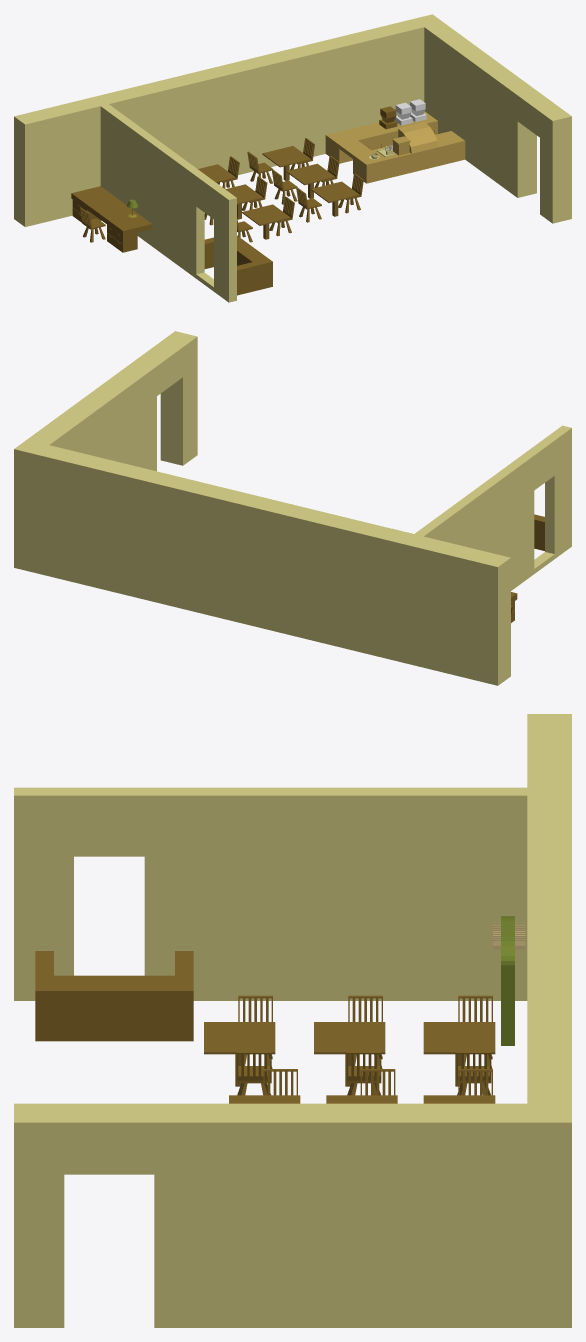
Rendered from Cafe.fbx.
3 renders of one model, top to bottom at view 1: azimuth 30°, elevation 25°; view 2: azimuth 150°, elevation 25°; view 3: azimuth 270°, elevation 25°, orthographic. The views are drawn at different scales.
Parts seen in each view (by area): view 1: Cube.001, Cube.002, Plane, Cube.004, Plane.002, Plane.008, Plane.005, Plane.001, Plane.007, Cube.003, Cube.005, Cube.012 (+4 smaller); view 2: Cube.001; view 3: Cube.001, Cube.004, Plane.006, Plane.007, Plane.008, Plane.024, Cube.021, Cube.019, Cube.017.
Part boxes in pixels (box(x1,y1,x2,y2)): Cube.001: box(14, 14, 571, 302); Cube.002: box(325, 111, 465, 183); Plane: box(71, 186, 152, 236); Cube.004: box(204, 235, 272, 295); Plane.002: box(311, 181, 359, 216); Plane.008: box(242, 204, 290, 239); Plane.005: box(262, 146, 310, 180); Plane.001: box(286, 163, 335, 198); Plane.007: box(225, 184, 263, 219); Cube.003: box(80, 207, 105, 242); Cube.005: box(296, 187, 321, 222); Cube.012: box(272, 169, 297, 204); Cube.001: box(14, 331, 571, 685); Cube.001: box(14, 714, 571, 1327); Cube.004: box(35, 951, 193, 1041); Plane.006: box(423, 1022, 495, 1086); Plane.007: box(314, 1022, 385, 1086); Plane.008: box(204, 1022, 275, 1086); Plane.024: box(501, 916, 514, 1045); Cube.021: box(237, 1051, 271, 1095); Cube.019: box(347, 1051, 381, 1095); Cube.017: box(456, 1051, 491, 1095).
Bounding box in the file's own units: 1494 × 350 × 862.
